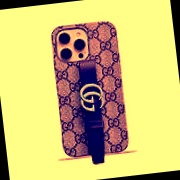iphone: (58, 23, 123, 157)
